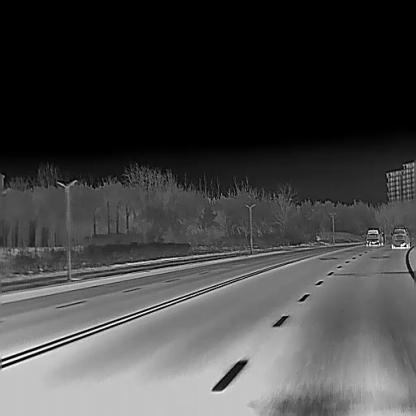car: (390, 226, 411, 247), (365, 226, 384, 245)
